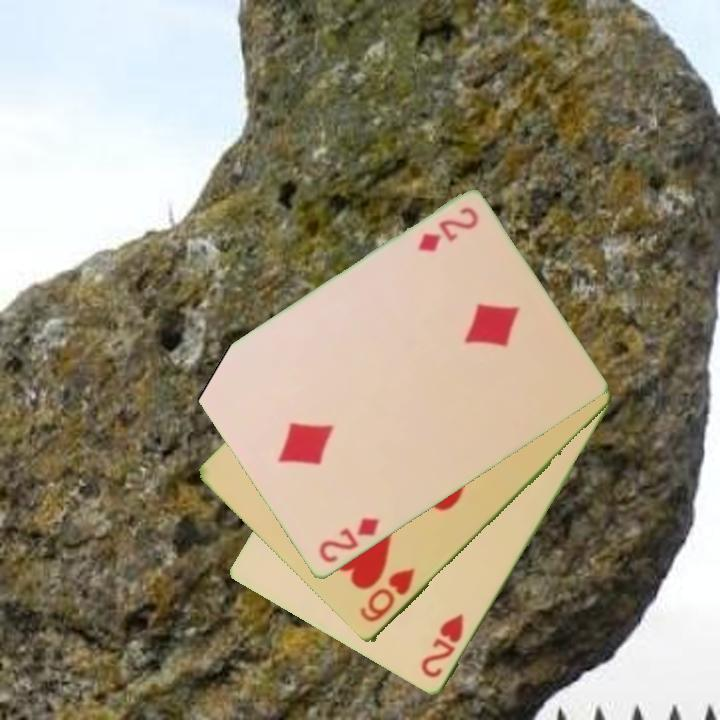2d: (413, 203, 482, 256), (315, 514, 382, 567)
2h: (417, 610, 467, 682)
6h: (356, 565, 418, 626)
